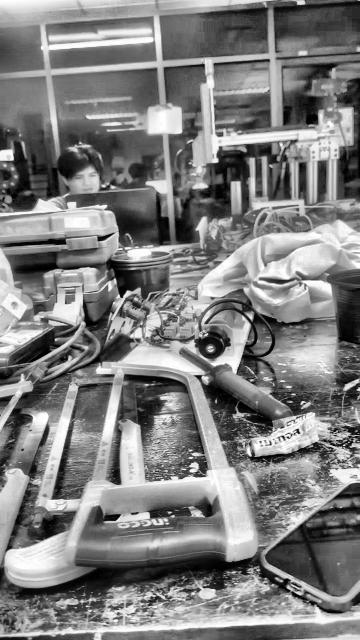pot: (326, 269, 360, 345)
